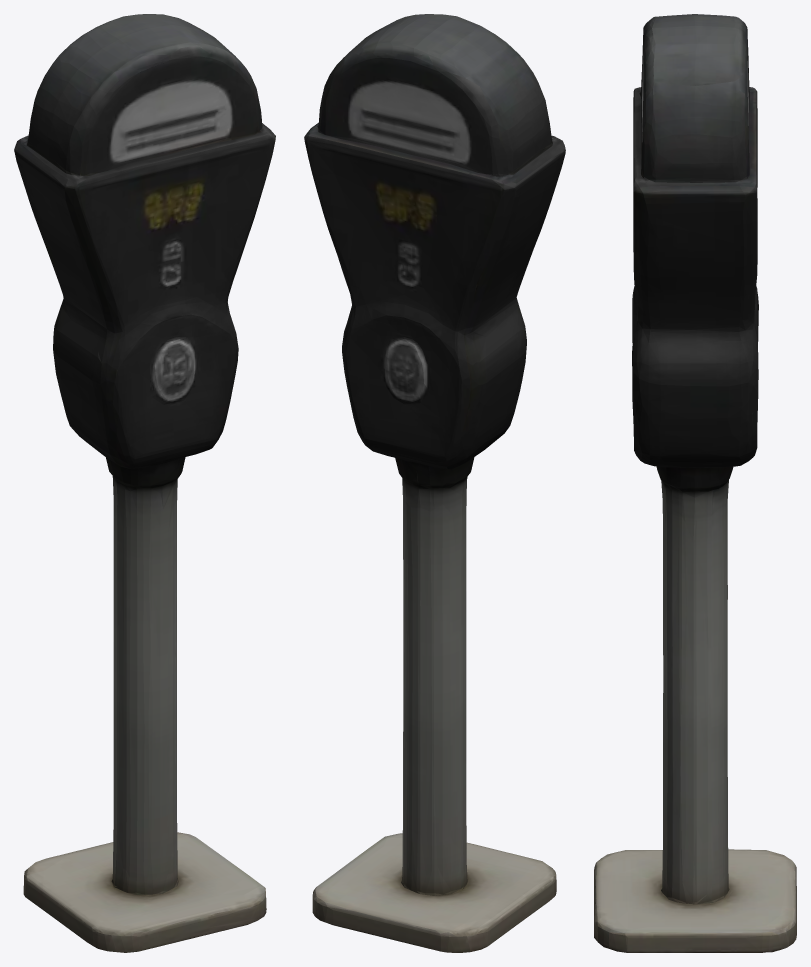
Rendered from parking meter.glb.
3 views of the same model, side by side, from view 1: azimuth 30°, elevation 25°; view 2: azimuth 150°, elevation 25°; view 3: azimuth 270°, elevation 25° (orthographic).
Parts seen in each view (by area): view 1: world; view 2: world; view 3: world.
Boxes of the visible parts, box(x1,y1,x2,y2) form: world: box(14, 14, 275, 952); world: box(304, 14, 565, 952); world: box(594, 14, 796, 952).
Size of the model in its own units: 0.2529 by 1 by 0.2079.
Materials: 1 (1 with a texture image).
